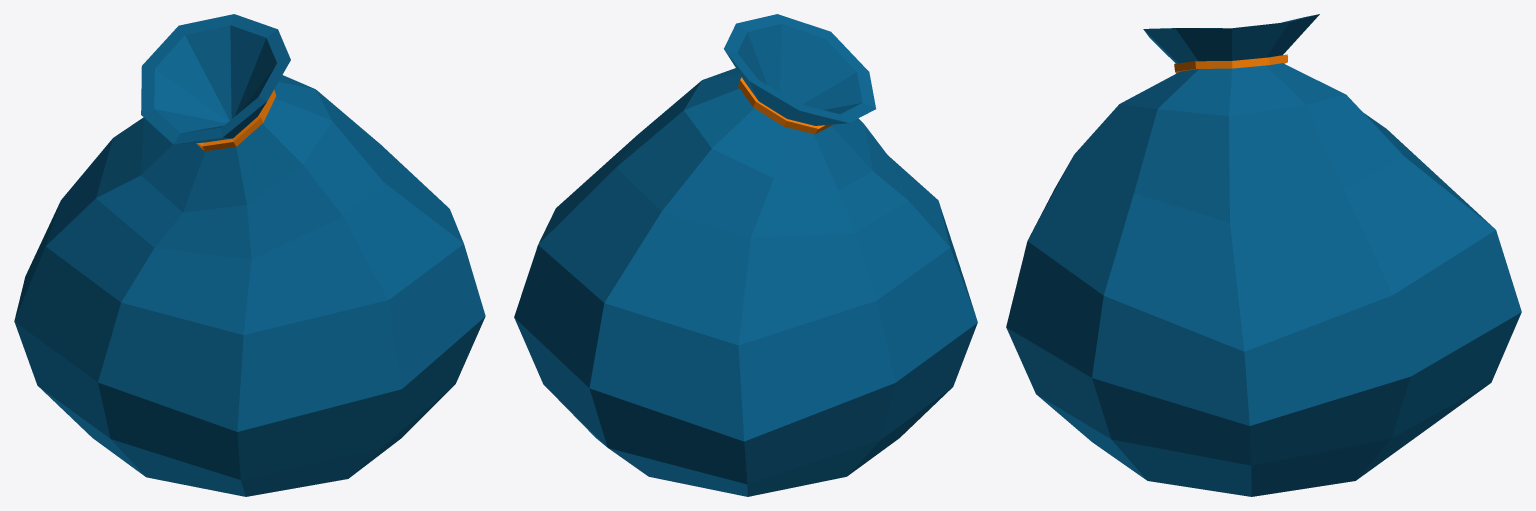
Rendered from model_trash_bag_blue.fbx.
3 renders of one model, left to right at view 1: azimuth 30°, elevation 25°; view 2: azimuth 150°, elevation 25°; view 3: azimuth 270°, elevation 25°, orthographic. The views are drawn at different scales.
Parts seen in each view (by area): view 1: model_trash_bag_blue; view 2: model_trash_bag_blue; view 3: model_trash_bag_blue.
Part boxes in pixels (bbox=[...]): model_trash_bag_blue: bbox=[14, 14, 485, 496]; model_trash_bag_blue: bbox=[514, 14, 977, 496]; model_trash_bag_blue: bbox=[1006, 14, 1521, 496].
Bounding box in the file's own units: 68.65 × 66.27 × 72.34.
Materials: 1 (1 with a texture image).
